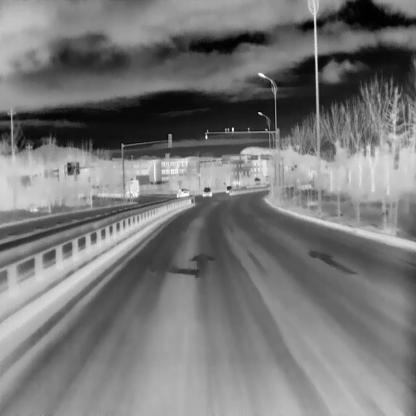car: (176, 187, 188, 197), (202, 186, 212, 196), (225, 184, 232, 192)
